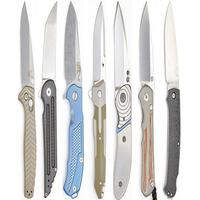knife: (158, 1, 187, 200), (107, 1, 134, 192), (137, 2, 161, 200), (15, 1, 37, 200), (89, 1, 111, 200), (64, 1, 86, 199), (40, 1, 61, 194)
